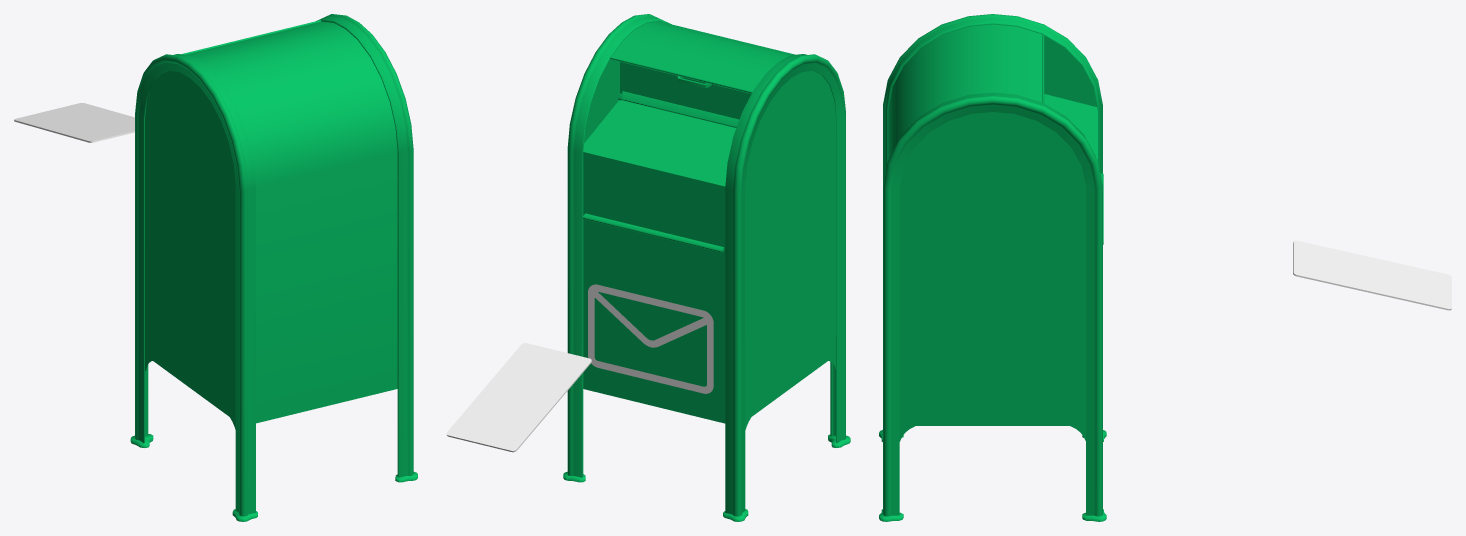
3 views of the same model, side by side, from view 1: azimuth 30°, elevation 25°; view 2: azimuth 150°, elevation 25°; view 3: azimuth 270°, elevation 25° (orthographic).
Visible parts, largest first — view 1: node_Mailbox_-25420, node_Envelope_-25422; view 2: node_Mailbox_-25420, node_Envelope_-25422, node_Plane_-25424; view 3: node_Mailbox_-25420, node_Envelope_-25422.
Boxes of the visible parts, x1=… form: node_Mailbox_-25420: x1=130, y1=14, x2=417, y2=521; node_Envelope_-25422: x1=14, y1=103, x2=134, y2=142; node_Mailbox_-25420: x1=563, y1=14, x2=850, y2=521; node_Envelope_-25422: x1=446, y1=343, x2=591, y2=452; node_Plane_-25424: x1=588, y1=284, x2=713, y2=393; node_Mailbox_-25420: x1=879, y1=14, x2=1106, y2=521; node_Envelope_-25422: x1=1293, y1=240, x2=1451, y2=310.
Size of the model in its own units: 0.5378 by 1.19 by 1.46.
